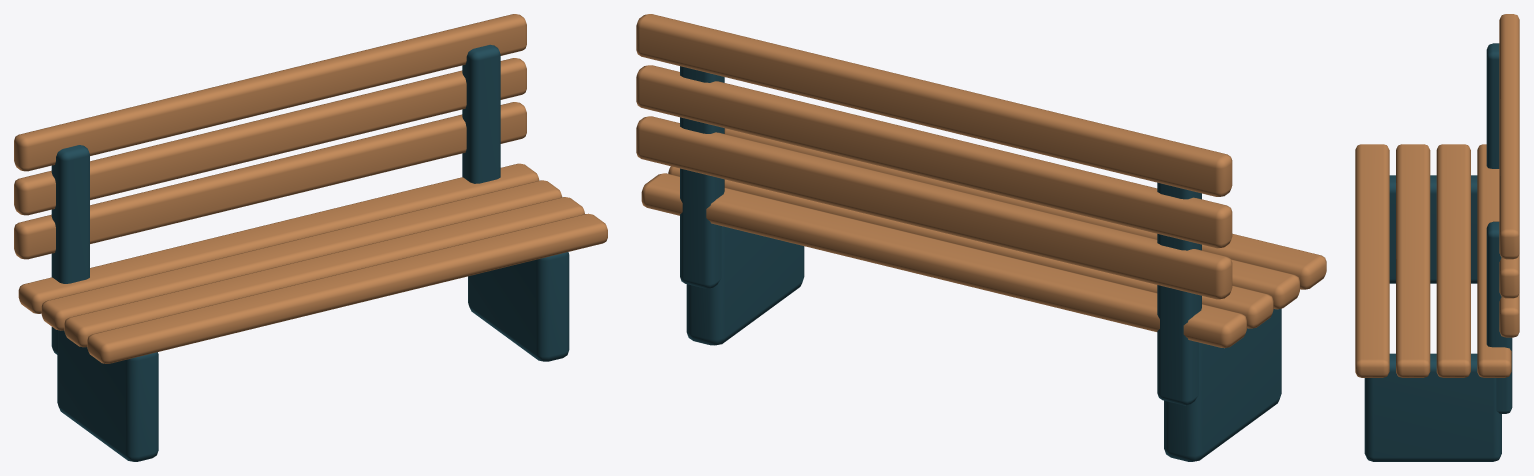
Rendered from bench.glb.
The picture shows the model from 3 angles, left to right: view 1: azimuth 30°, elevation 25°; view 2: azimuth 150°, elevation 25°; view 3: azimuth 270°, elevation 25°; orthographic projection. The views are drawn at different scales.
Visible parts, largest first — view 1: Timber back.002, Timber seat, Timber back, Timber back.001, Timber seat.001, Timber seat.002, Timber seat.003, Bench leg, Bench leg.001, Bench back support, Bench back support.001; view 2: Timber back.002, Timber back.001, Timber back, Timber seat.003, Bench leg, Bench leg.001, Timber seat, Timber seat.002, Bench back support, Bench back support.001, Timber seat.001; view 3: Bench leg.001, Timber seat.002, Timber seat, Timber seat.001, Timber back.002, Timber seat.003, Bench back support.001, Bench leg, Bench back support, Timber back, Timber back.001.
Part boxes in pixels (x1=…): Timber back.002: x1=14, y1=14, x2=526, y2=171; Timber seat: x1=87, y1=213, x2=607, y2=363; Timber back: x1=14, y1=102, x2=526, y2=259; Timber back.001: x1=14, y1=58, x2=526, y2=215; Timber seat.001: x1=64, y1=197, x2=584, y2=347; Timber seat.002: x1=41, y1=180, x2=562, y2=330; Timber seat.003: x1=18, y1=163, x2=539, y2=313; Bench leg: x1=57, y1=330, x2=158, y2=461; Bench leg.001: x1=468, y1=252, x2=569, y2=361; Bench back support: x1=51, y1=145, x2=89, y2=354; Bench back support.001: x1=462, y1=44, x2=500, y2=183; Timber back.002: x1=636, y1=14, x2=1232, y2=196; Timber back.001: x1=636, y1=65, x2=1232, y2=248; Timber back: x1=636, y1=116, x2=1232, y2=299; Timber seat.003: x1=641, y1=173, x2=1246, y2=348; Bench leg: x1=1164, y1=308, x2=1281, y2=461; Bench leg.001: x1=686, y1=226, x2=804, y2=345; Timber seat: x1=724, y1=128, x2=1326, y2=289; Timber seat.002: x1=668, y1=166, x2=1273, y2=328; Bench back support: x1=1157, y1=182, x2=1201, y2=405; Bench back support.001: x1=680, y1=66, x2=724, y2=288; Timber seat.001: x1=1231, y1=259, x2=1299, y2=309; Bench leg.001: x1=1364, y1=353, x2=1501, y2=461; Timber seat.002: x1=1436, y1=144, x2=1470, y2=377; Timber seat: x1=1355, y1=144, x2=1389, y2=377; Timber seat.001: x1=1396, y1=144, x2=1430, y2=377; Timber back.002: x1=1499, y1=14, x2=1519, y2=259; Timber seat.003: x1=1477, y1=144, x2=1511, y2=377; Bench back support.001: x1=1486, y1=221, x2=1512, y2=413; Bench leg: x1=1389, y1=175, x2=1477, y2=283; Bench back support: x1=1486, y1=43, x2=1499, y2=168; Timber back: x1=1499, y1=293, x2=1519, y2=337; Timber back.001: x1=1499, y1=254, x2=1519, y2=298.
Bounding box in the file's own units: 2.05 × 1.07 × 0.6475.
